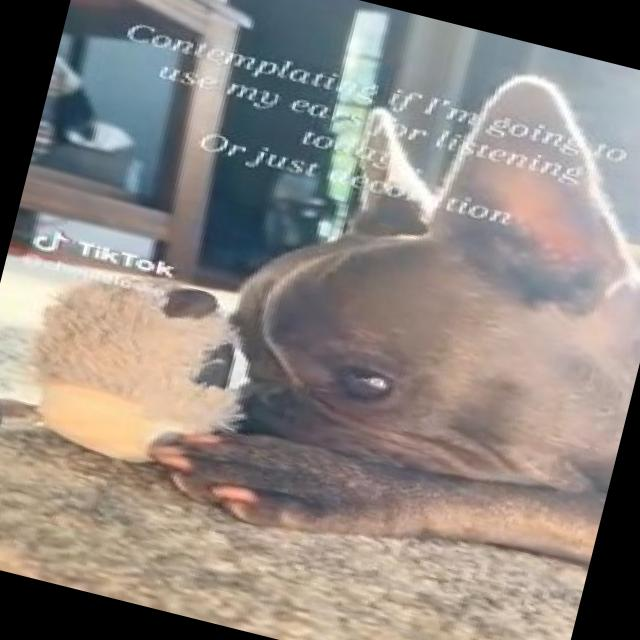dog: (147, 206, 628, 593)
